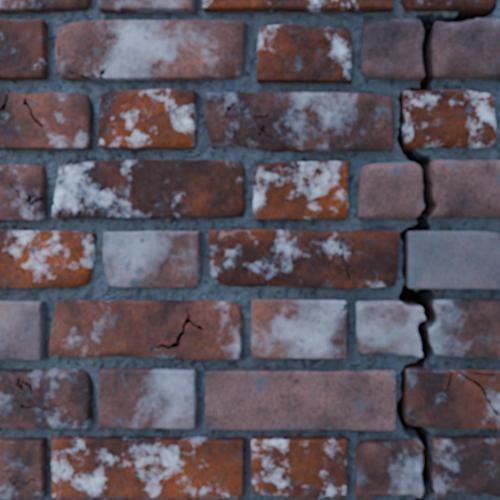brick: (52, 437, 243, 497), (56, 20, 245, 80), (205, 370, 394, 429), (50, 300, 241, 358), (205, 93, 393, 151), (209, 230, 398, 287), (55, 160, 244, 217), (99, 368, 195, 428), (98, 90, 195, 148), (252, 437, 345, 497), (405, 369, 499, 428), (0, 369, 92, 427), (252, 300, 345, 357), (257, 25, 350, 82), (253, 162, 347, 218), (0, 231, 94, 287), (408, 231, 499, 288), (103, 232, 199, 286), (404, 91, 495, 147), (0, 93, 92, 148), (0, 438, 45, 499), (0, 20, 46, 79), (0, 301, 44, 359), (0, 165, 46, 219), (203, 0, 392, 11), (464, 369, 499, 412), (98, 0, 193, 12), (0, 0, 90, 12), (402, 0, 492, 10), (0, 92, 7, 105), (52, 209, 56, 216)
broken_brick: (354, 437, 422, 499), (433, 435, 499, 498), (431, 298, 499, 358), (434, 17, 499, 78), (355, 299, 423, 357), (432, 159, 499, 217), (360, 18, 422, 80), (357, 161, 422, 219)
crack: (396, 0, 497, 499), (457, 369, 499, 415), (76, 179, 107, 218), (67, 67, 107, 80), (52, 200, 61, 218), (0, 93, 8, 111), (341, 300, 347, 311), (56, 45, 60, 56), (51, 464, 56, 467)
